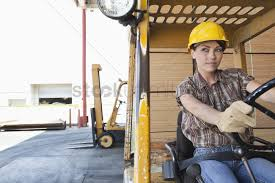Person_wearing_helmet: (186, 16, 230, 54)
